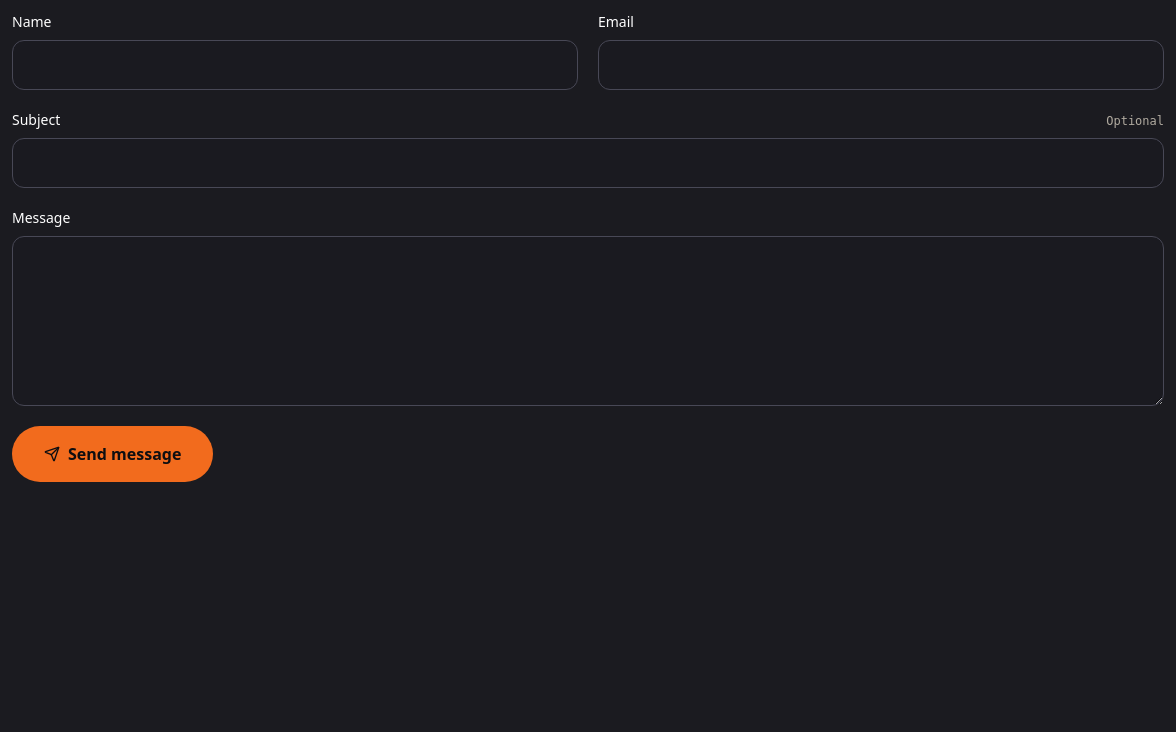
Scenario: ContactForm › explains what is missing and sends nothing when submitted empty
Click the button "Send message".
click(113, 454)  # box [12,426,213,482]
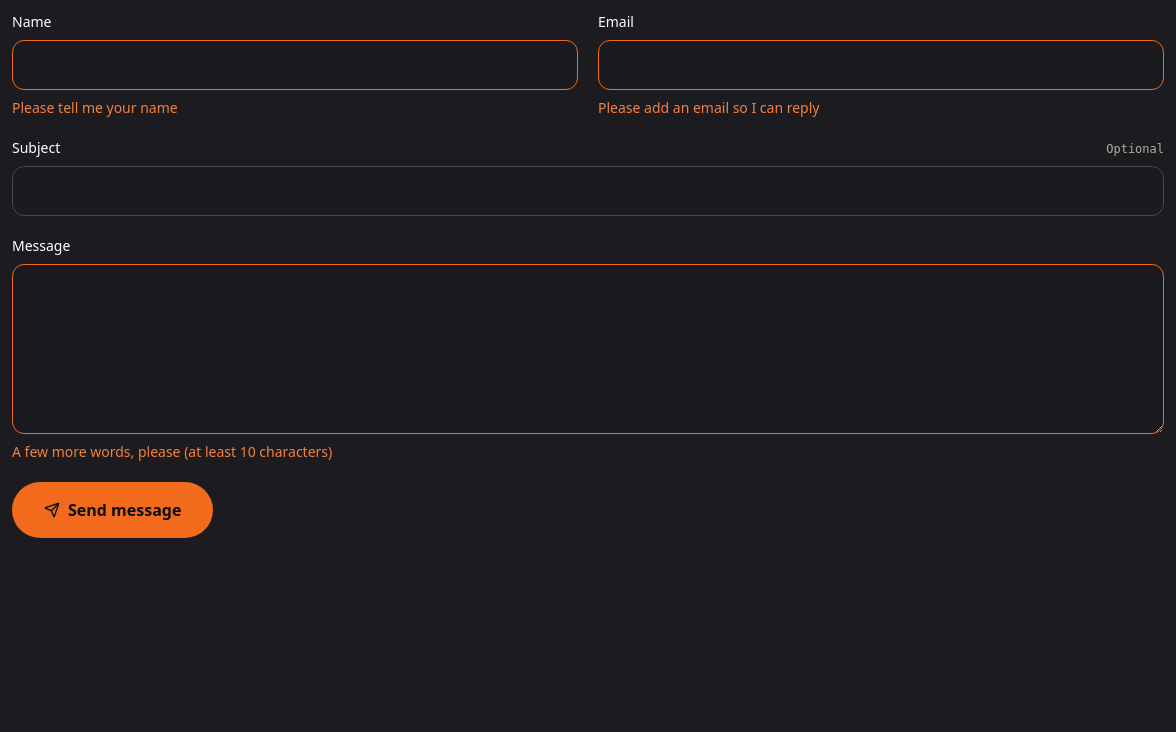
Now the text "Please tell me your name" is shown, box [12,98,178,117]
Now the text "Please add an email so I can reply" is shown, box [598,98,820,117]
Now the text "A few more words, please (at least 10 characters)" is shown, box [12,442,332,461]
